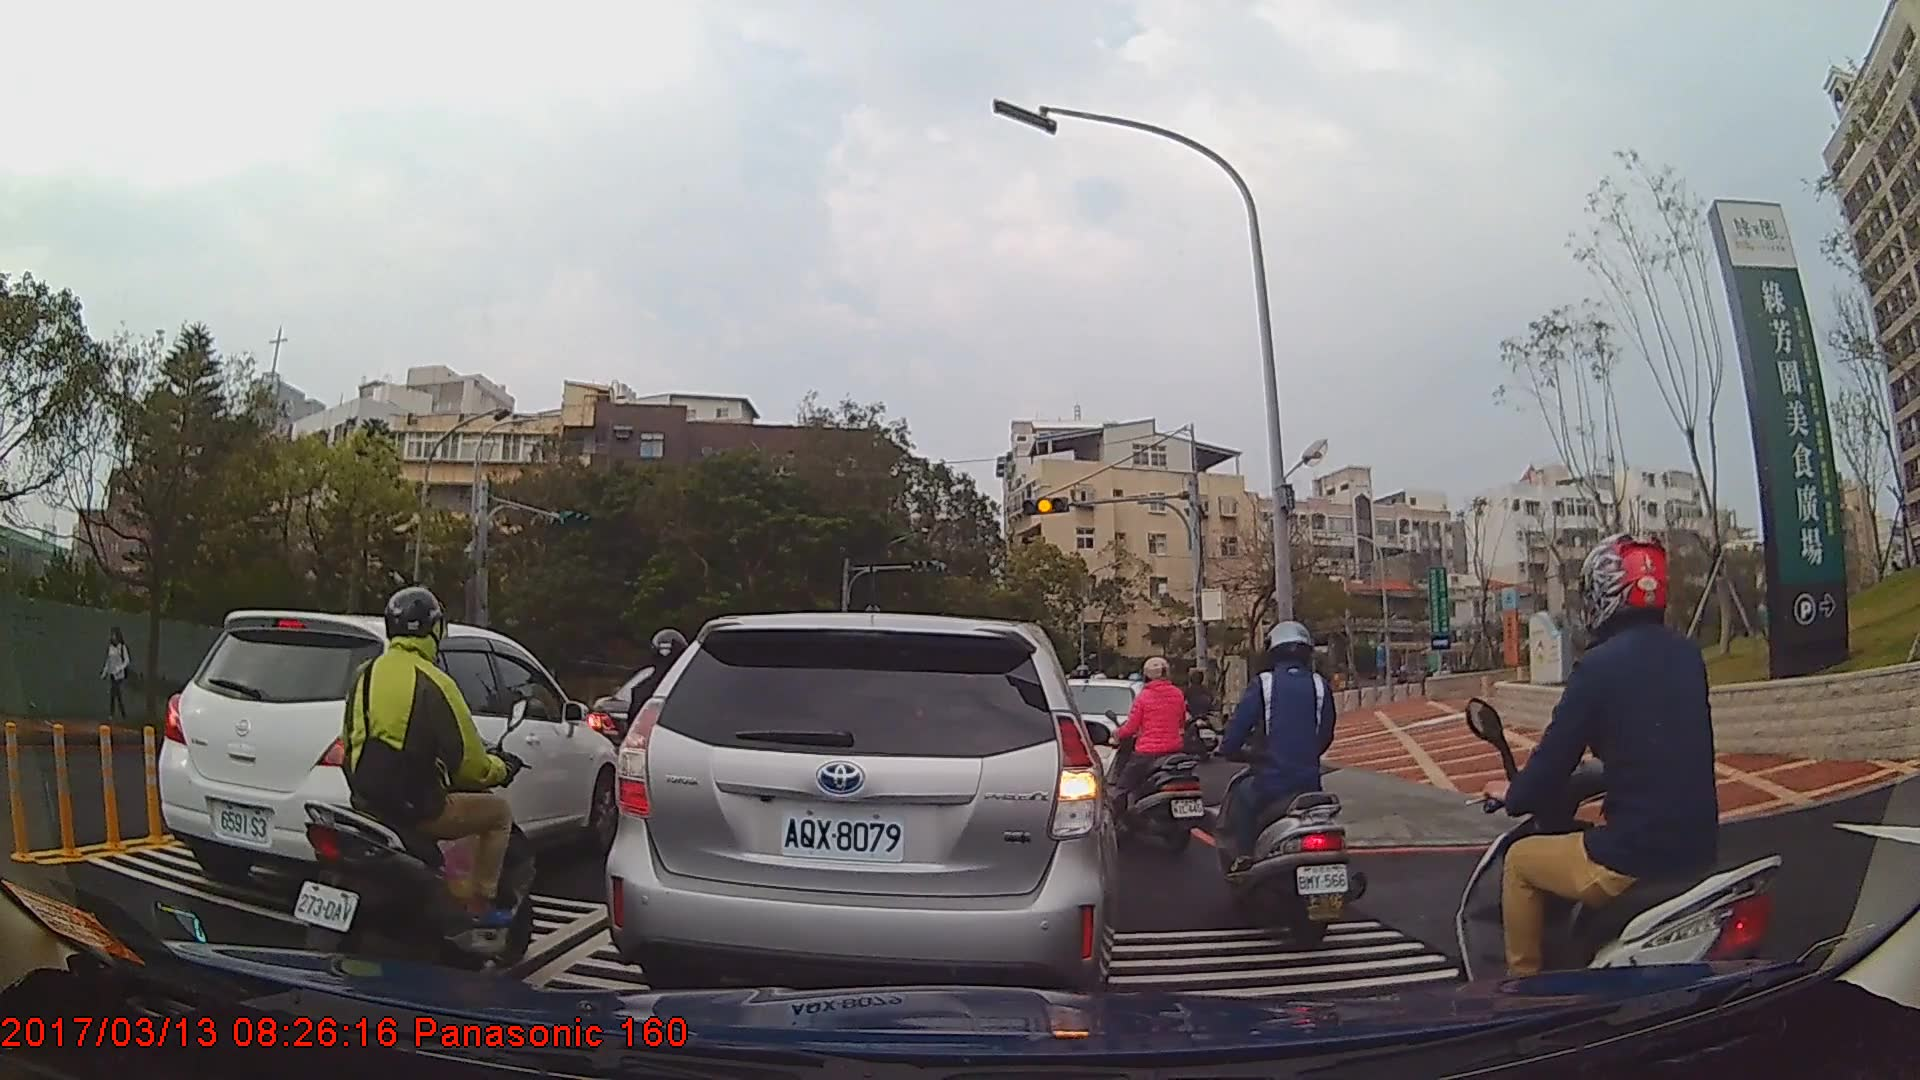pedestrian: (103, 629, 133, 723)
rider: (1457, 526, 1786, 1054), (300, 585, 544, 991), (1217, 615, 1358, 953), (1095, 653, 1203, 862), (1177, 667, 1223, 759)
vehicle: (605, 611, 1118, 1004), (156, 607, 624, 918)
